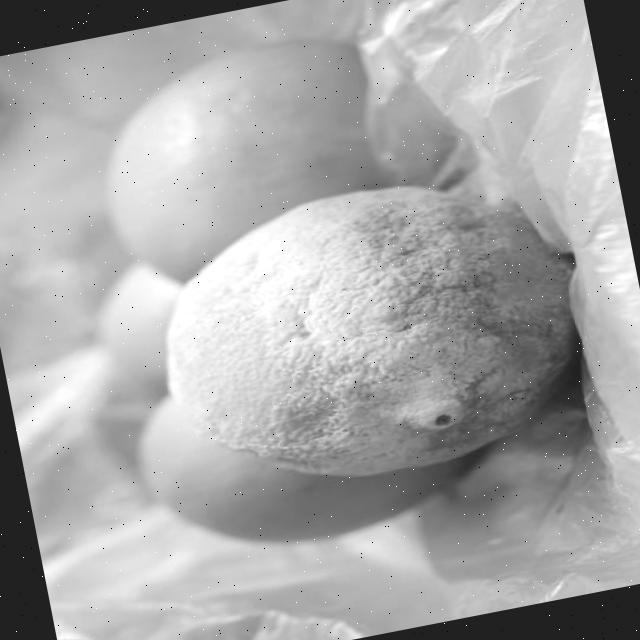Rotten: (135, 152, 602, 513)
